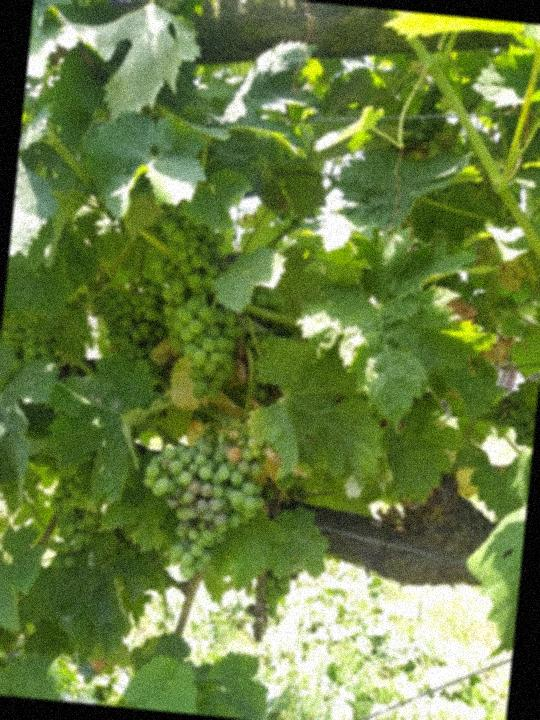grape: (130, 412, 284, 590), (138, 211, 260, 404)
